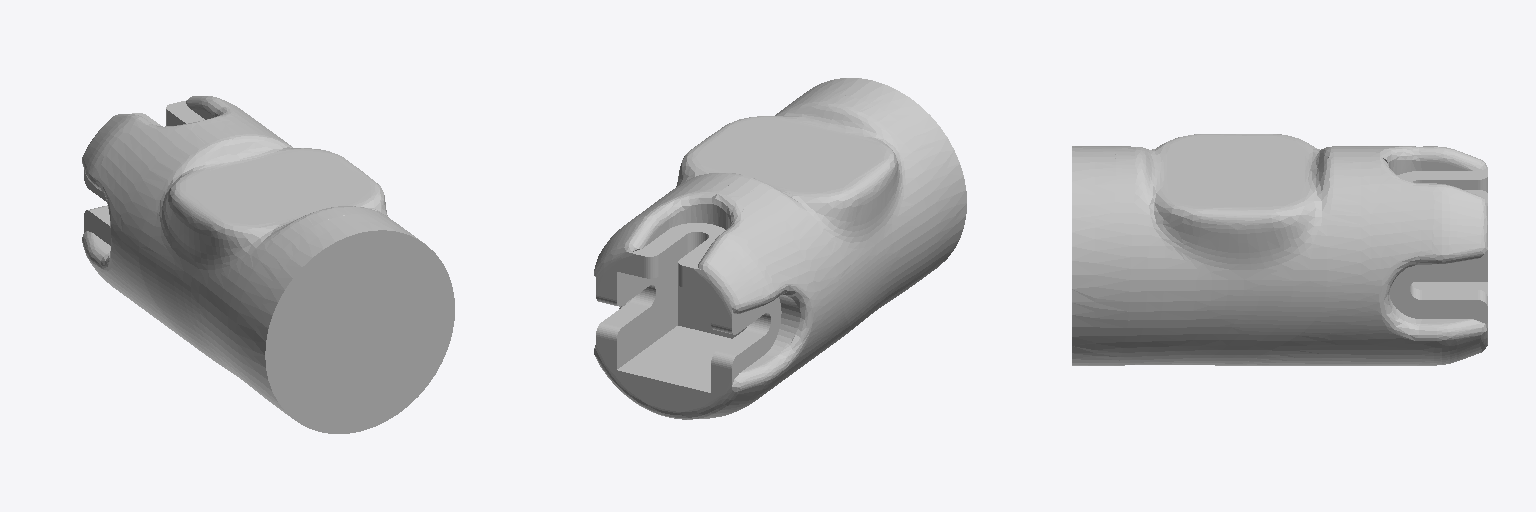
3 renders of one model, left to right at view 1: azimuth 30°, elevation 25°; view 2: azimuth 150°, elevation 25°; view 3: azimuth 270°, elevation 25°, orthographic.
Parts seen in each view (by area): view 1: base_2.obj; view 2: base_2.obj; view 3: base_2.obj.
Boxes of the visible parts, x1=… form: base_2.obj: x1=82, y1=96, x2=454, y2=433; base_2.obj: x1=594, y1=78, x2=966, y2=419; base_2.obj: x1=1072, y1=134, x2=1487, y2=365.
Size of the model in its own units: 0.0825 by 0.0825 by 0.1567.